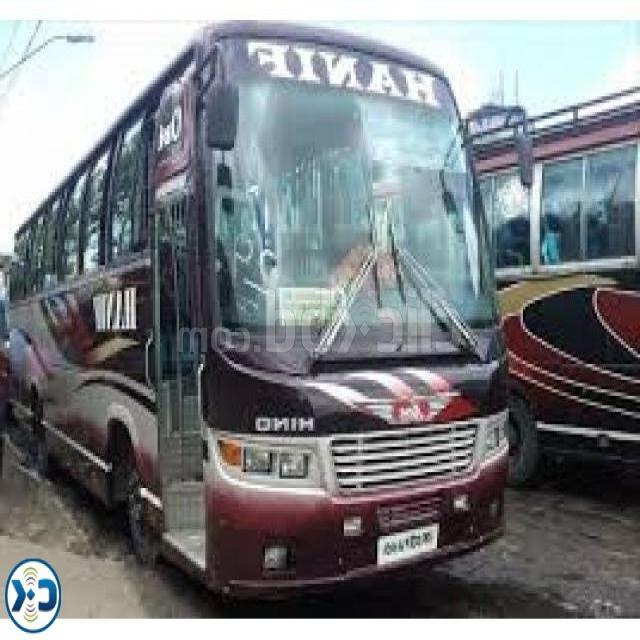Bus: (1, 1, 541, 629), (220, 63, 640, 528)
